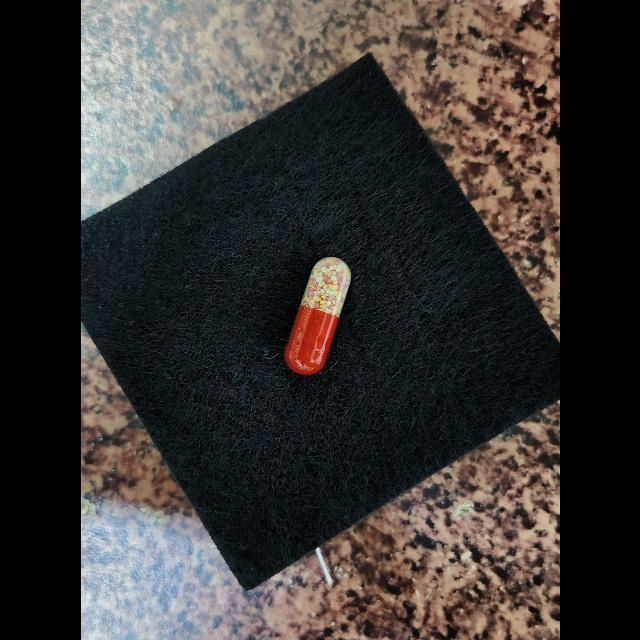Intact Capsule: (284, 257, 351, 375)
